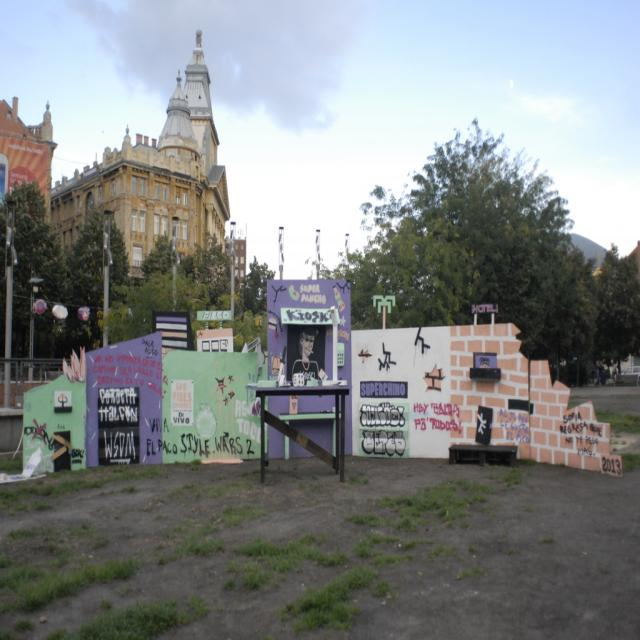desk: (242, 360, 352, 483)
